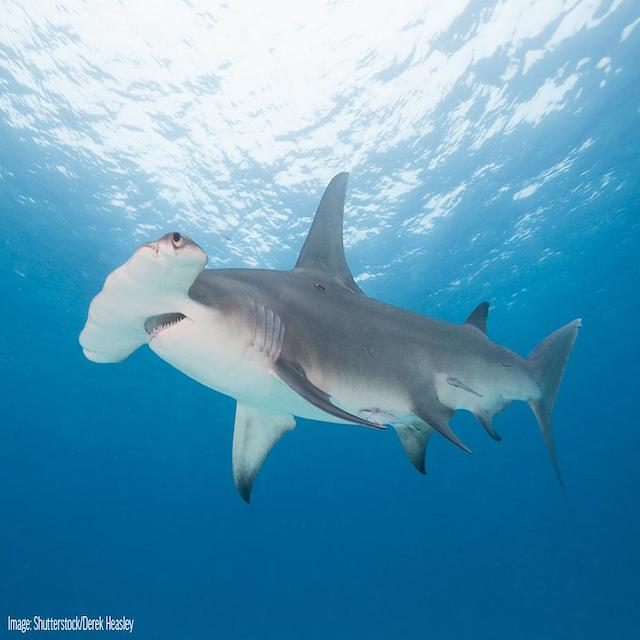hammerhead: (79, 167, 501, 507)
